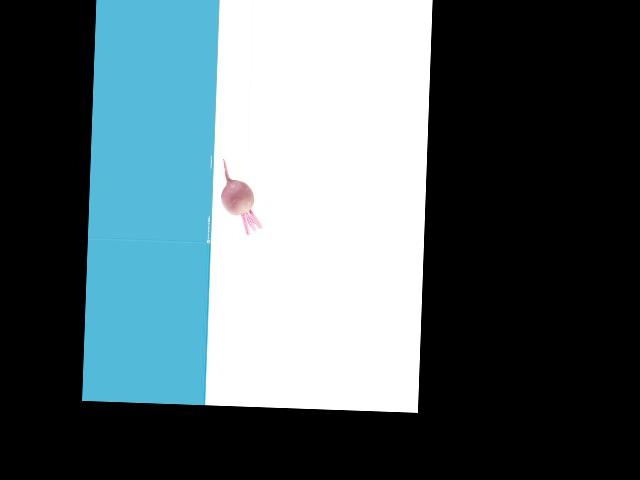beet: (220, 159, 264, 235)
